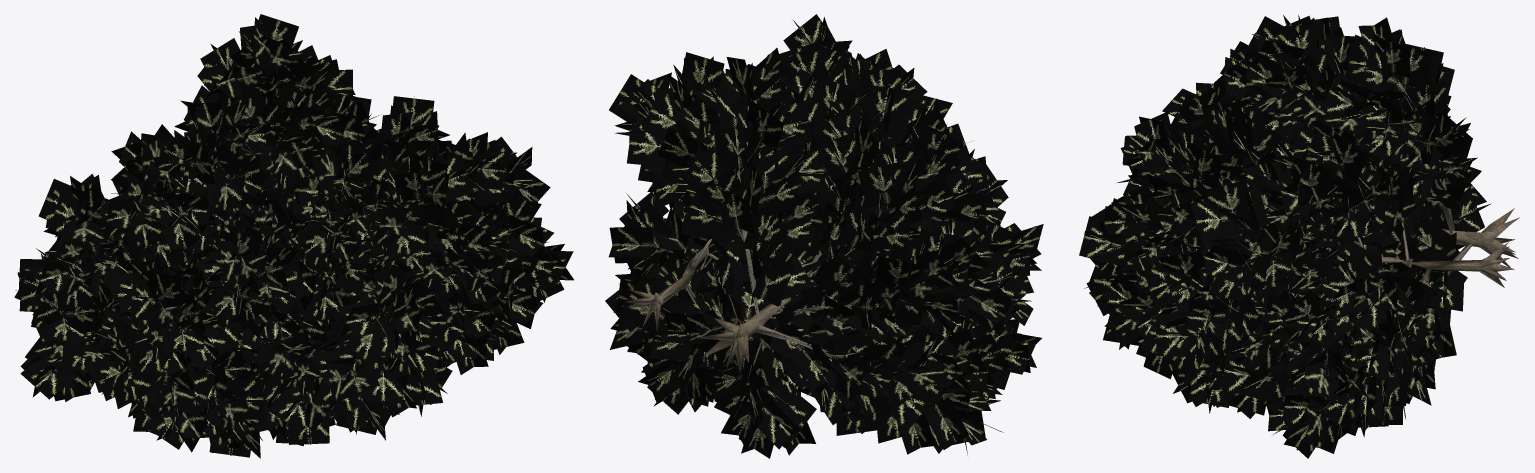
3 views of the same model, side by side, from view 1: azimuth 30°, elevation 25°; view 2: azimuth 150°, elevation 25°; view 3: azimuth 270°, elevation 25° (orthographic). The views are drawn at different scales.
Parts seen in each view (by area): view 1: OC29_9; view 2: OC29_9; view 3: OC29_9.
Boxes of the visible parts, <box> form: OC29_9: <box>14,14,573,458</box>; OC29_9: <box>605,14,1043,458</box>; OC29_9: <box>1079,15,1519,458</box>.
Size of the model in its own units: 2.86 by 2.48 by 2.4.
Materials: 5 (5 with a texture image).
